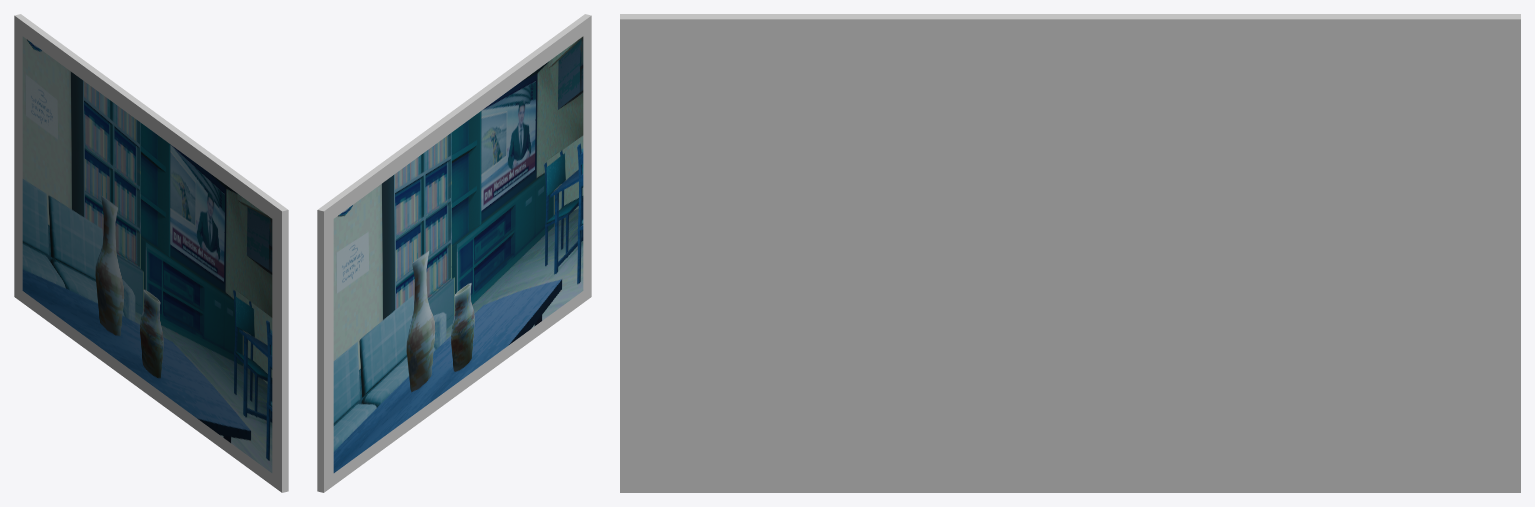
File: foto.glb
The picture shows the model from 3 angles, left to right: view 1: azimuth 30°, elevation 25°; view 2: azimuth 150°, elevation 25°; view 3: azimuth 270°, elevation 25°; orthographic projection. The views are drawn at different scales.
Parts seen in each view (by area): view 1: Foto, FotoBlanco; view 2: Foto, FotoBlanco; view 3: FotoBlanco.
Part boxes in pixels (x1,y1,x2,y2): Foto: (22,36,272,472); FotoBlanco: (14,14,288,492); Foto: (333,36,583,472); FotoBlanco: (317,14,591,492); FotoBlanco: (620,14,1520,492).
Size of the model in its own units: 0.00513 by 0.191 by 0.3291.
1 material, 1 textured.
